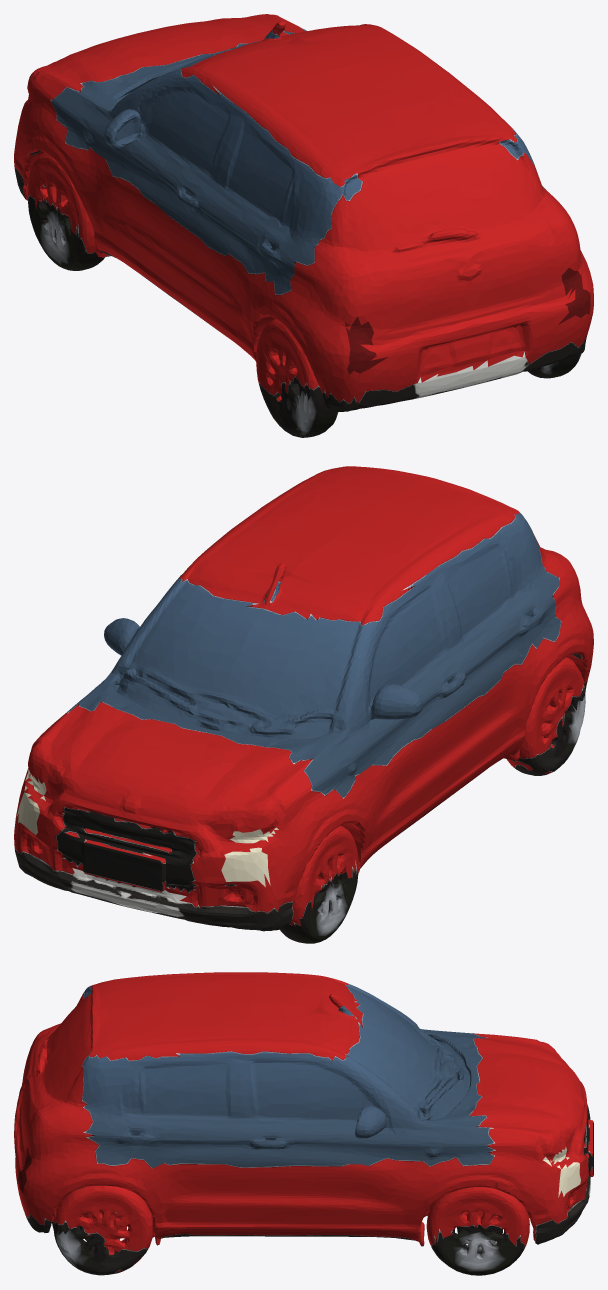
File: player.glb
3 views of the same model, one above another, from view 1: azimuth 30°, elevation 25°; view 2: azimuth 150°, elevation 25°; view 3: azimuth 270°, elevation 25° (orthographic). The views are drawn at different scales.
Parts seen in each view (by area): view 1: body, taillights_rear, wheel_0, wheel_1, wheel_3; view 2: body, headlights_front, wheel_0, wheel_1; view 3: body, wheel_2, wheel_3, headlights_front.
Boxes of the visible parts, x1,y1,x2,y2 form: body: [14, 14, 593, 437]; taillights_rear: [344, 267, 590, 374]; wheel_0: [31, 200, 103, 270]; wheel_1: [287, 387, 364, 437]; wheel_3: [536, 345, 585, 378]; body: [14, 466, 593, 940]; headlights_front: [16, 769, 278, 887]; wheel_0: [285, 871, 355, 943]; wheel_1: [563, 691, 585, 757]; body: [14, 972, 593, 1275]; wheel_2: [439, 1227, 515, 1275]; wheel_3: [31, 1225, 92, 1271]; headlights_front: [543, 1146, 580, 1197].
Bounding box in the file's own units: 88.4 × 75.35 × 172.
Materials: 7 (1 with a texture image).
